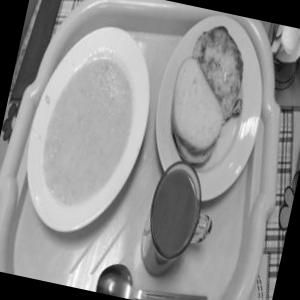bread: (142, 53, 244, 178)
cheese_sandwich: (168, 7, 262, 132)
coffee: (128, 142, 232, 294)
porridge: (24, 36, 150, 218)
